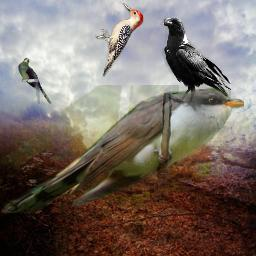Crow: (160, 16, 231, 107)
Cuckoo: (0, 85, 244, 213), (18, 58, 53, 104)
Woodpecker: (95, 3, 144, 77)
